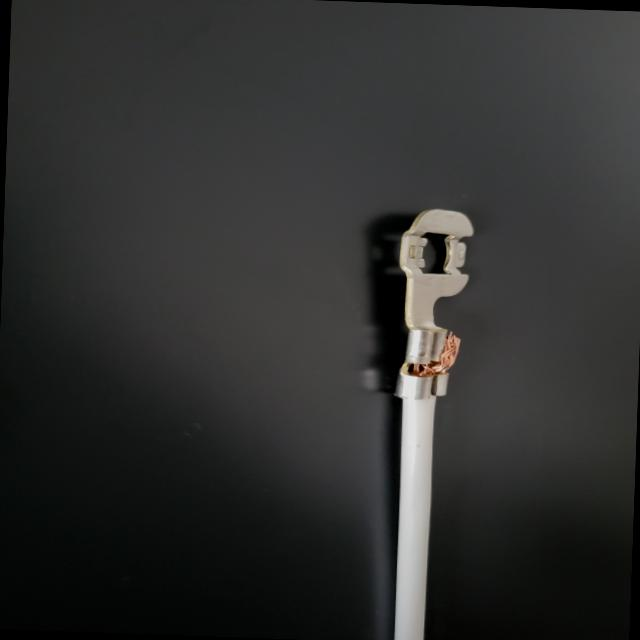defect: (353, 315, 476, 420)
